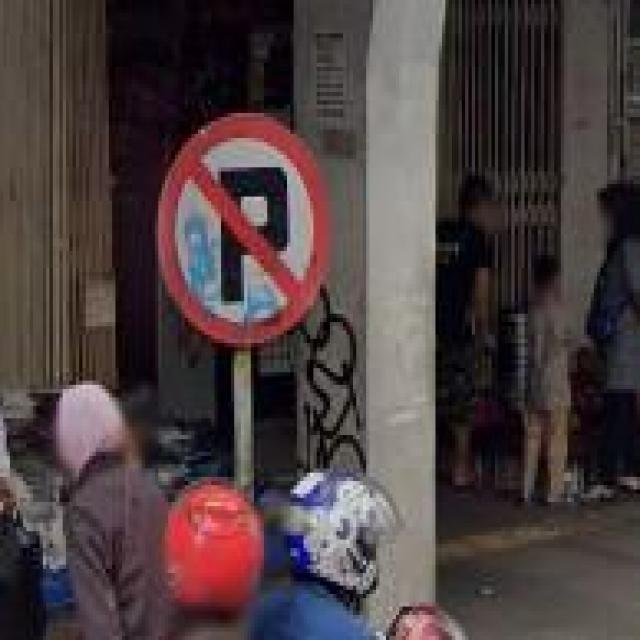traffic sign: (155, 109, 326, 352)
